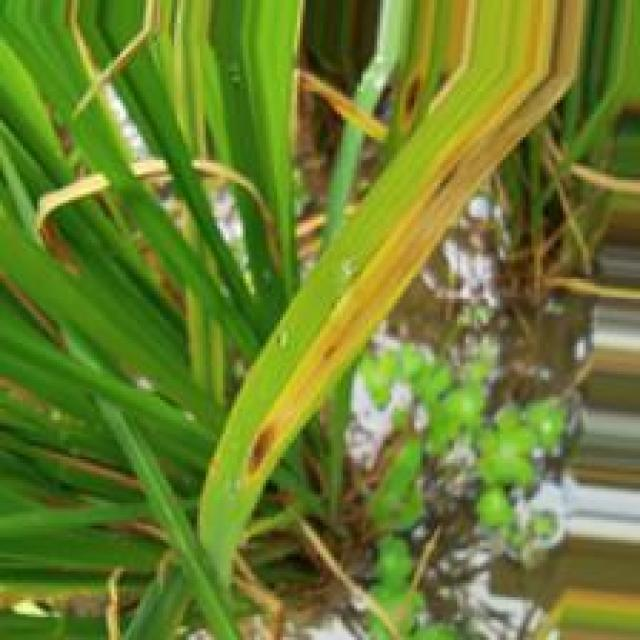Narrow_Brown_Leaf_Spot: (229, 123, 533, 503)
